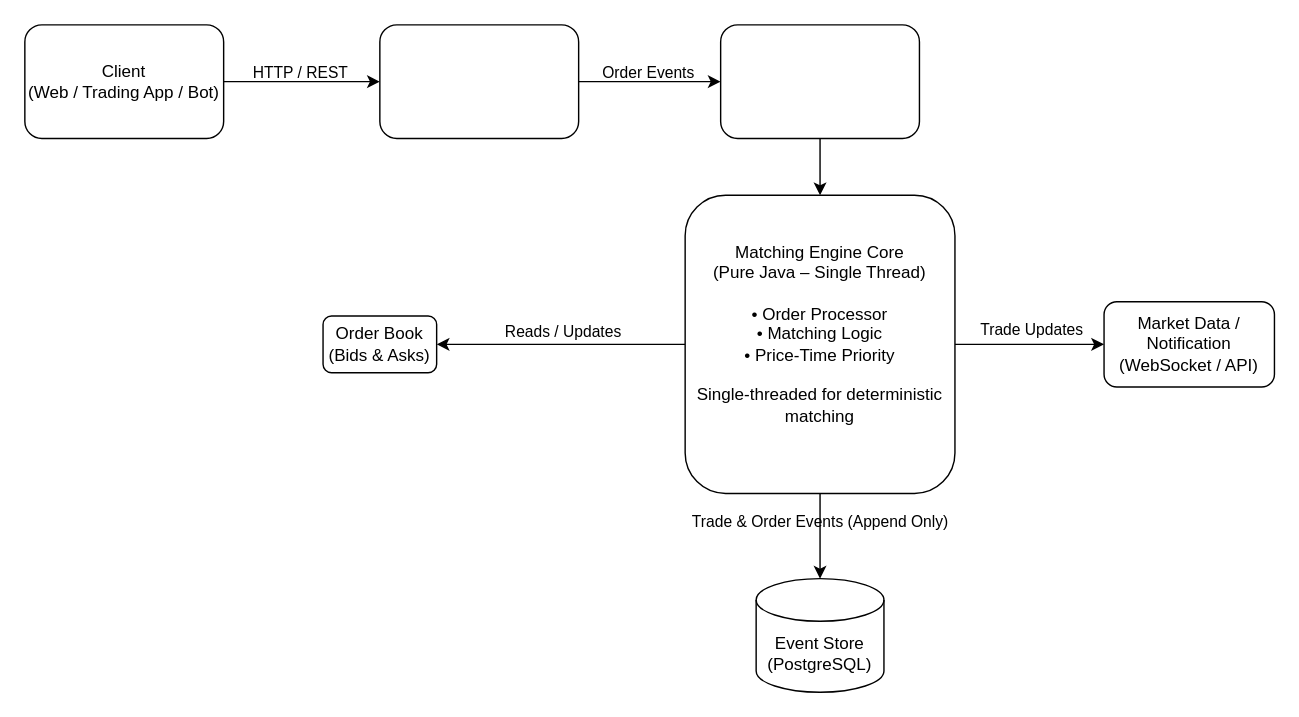
This 1299x717 diagram has some shape labels left out. The centre of each missing label's shape, as x and y in pixels:
API Layer (Spring Boot): the point at 478,80
Order Ingress Queue (BlockingQueue / Disruptor): the point at 819,80
